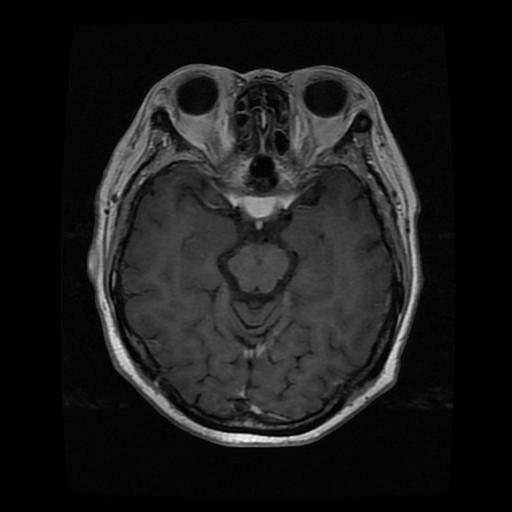Tumour-Pituitary: (225, 192, 296, 231)
